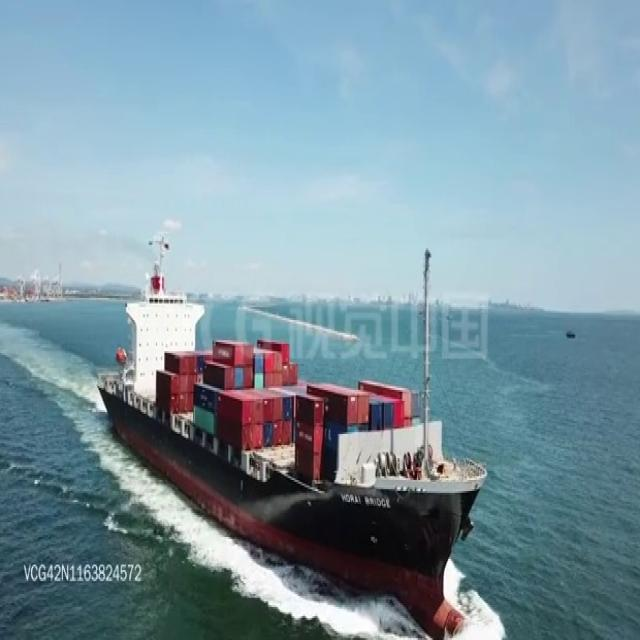cargoship: (100, 230, 491, 631)
